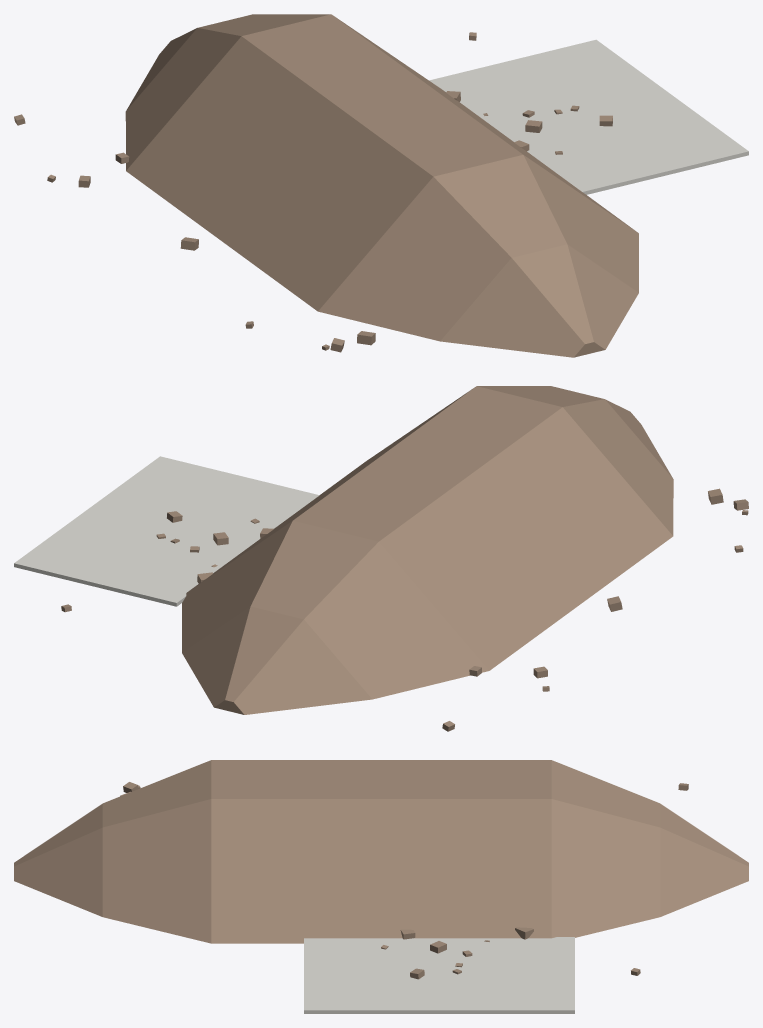
Rendered from ore-processing-and-haulage-plant-product-stockpile-aa36b920.glb.
The picture shows the model from 3 angles, top to bottom: view 1: azimuth 30°, elevation 25°; view 2: azimuth 150°, elevation 25°; view 3: azimuth 270°, elevation 25°; orthographic projection. The views are drawn at different scales.
Visible parts, largest first — view 1: product-stockpile; view 2: product-stockpile; view 3: product-stockpile.
Boxes of the visible parts, x1,y1,x2,y2 form: product-stockpile: [14, 14, 748, 357]; product-stockpile: [14, 386, 748, 731]; product-stockpile: [14, 760, 748, 1013].
Size of the model in its own units: 29.45 by 5.4 by 38.
